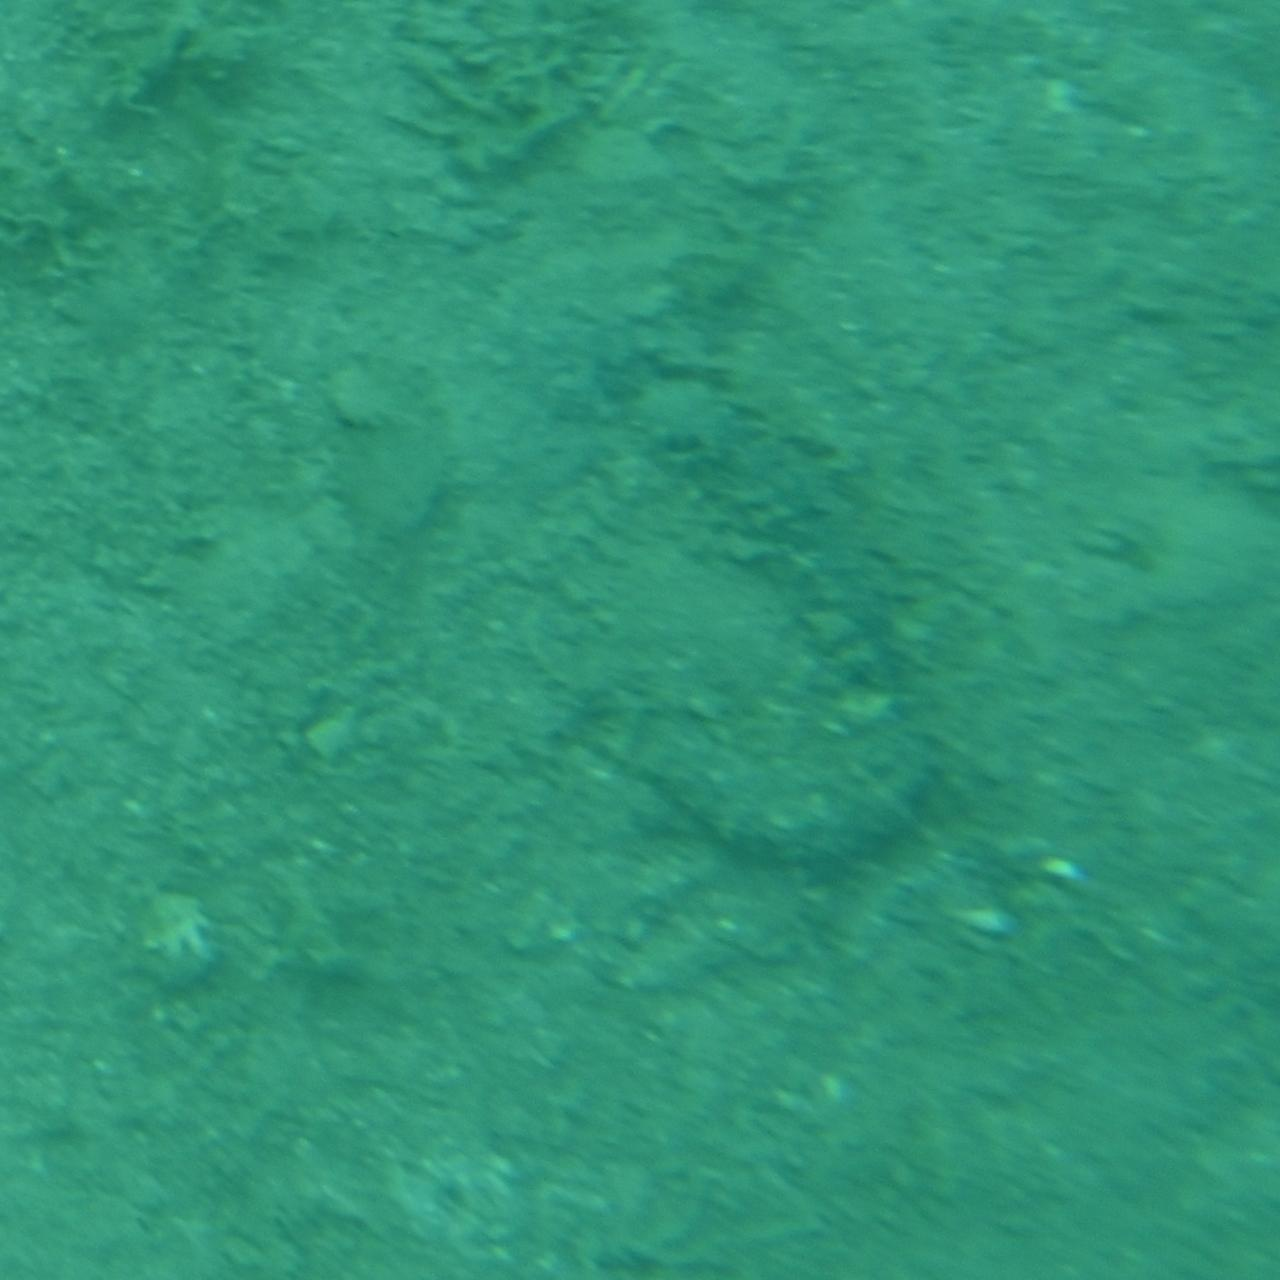Holothuria tubulosa: (592, 382, 955, 898)
